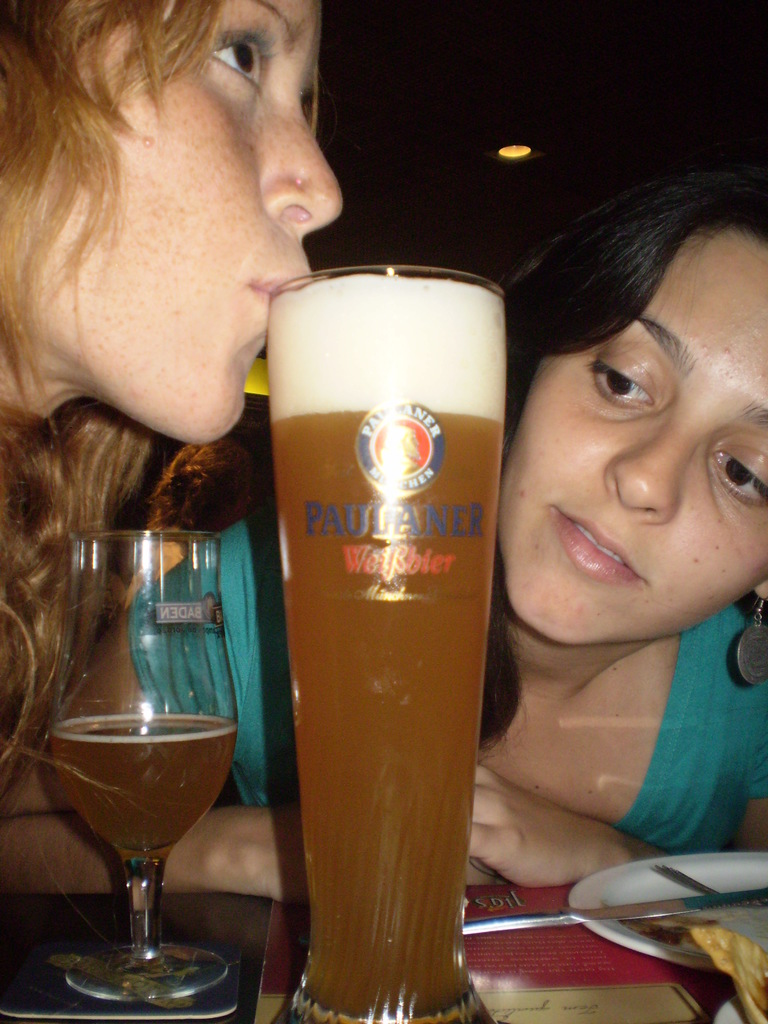Beer: (250, 244, 498, 1022), (33, 501, 277, 1006)
